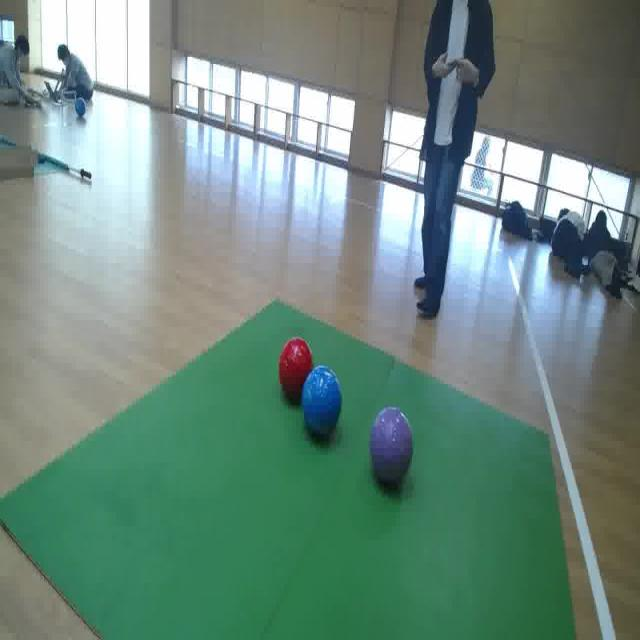blue_ball: (304, 366, 340, 434)
purple_ball: (371, 407, 413, 482)
red_ball: (279, 337, 313, 398)
